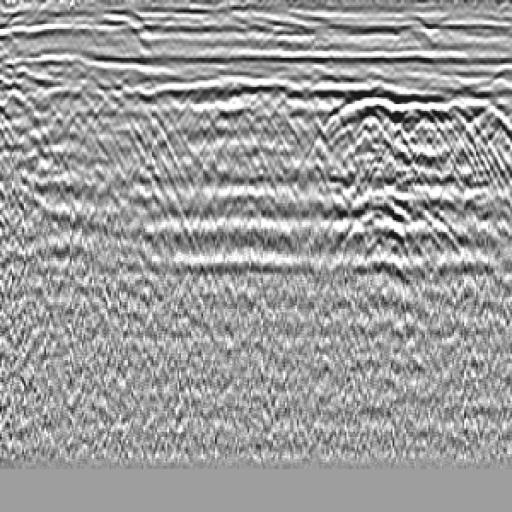non-metallic: (289, 74, 512, 334)
